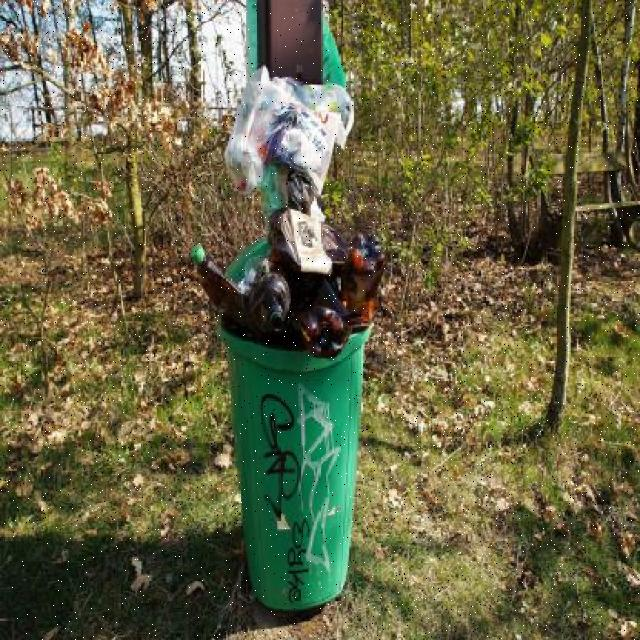garbage container: (209, 276, 377, 622)
